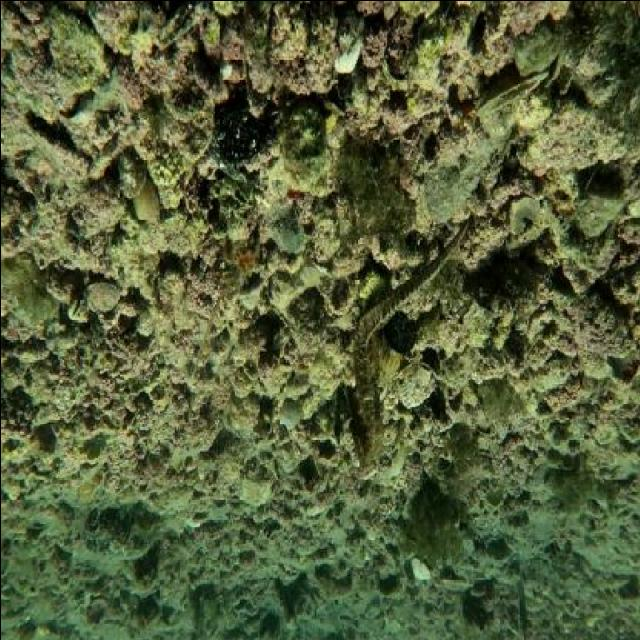Guttu: (344, 338, 385, 474)
